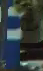Parking: (3, 0, 42, 66)
